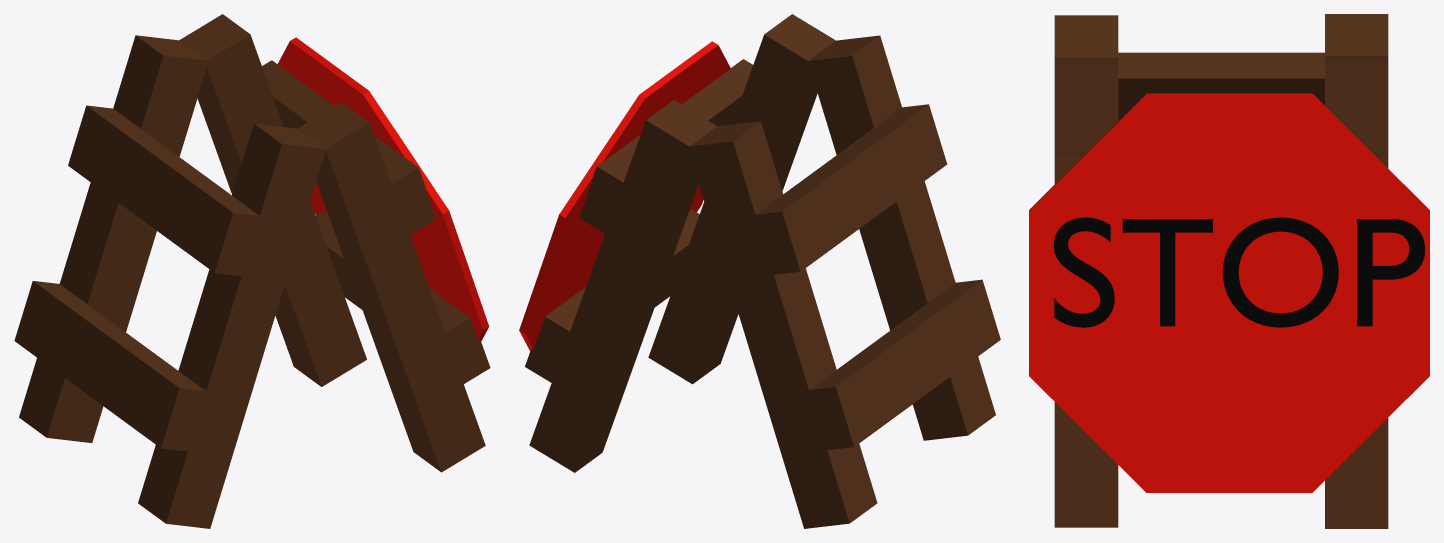
Rendered from Stopsign.gltf.
3 renders of one model, left to right at view 1: azimuth 30°, elevation 25°; view 2: azimuth 150°, elevation 25°; view 3: azimuth 270°, elevation 25°, orthographic. The views are drawn at different scales.
Visible parts, largest first — view 1: Cube; view 2: Cube; view 3: Cube.
Boxes of the visible parts, bbox=[...] form: Cube: bbox=[14, 14, 490, 528]; Cube: bbox=[519, 14, 1000, 528]; Cube: bbox=[1029, 14, 1429, 528].
Size of the model in its own units: 14.33 by 14.68 by 12.69.
